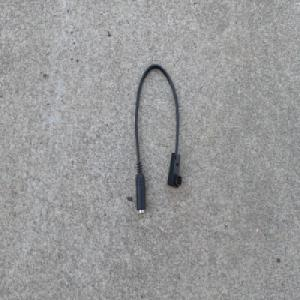Wire: (132, 61, 183, 214)
